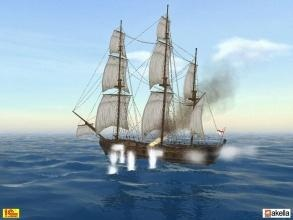fanchuan: (68, 3, 242, 164)
